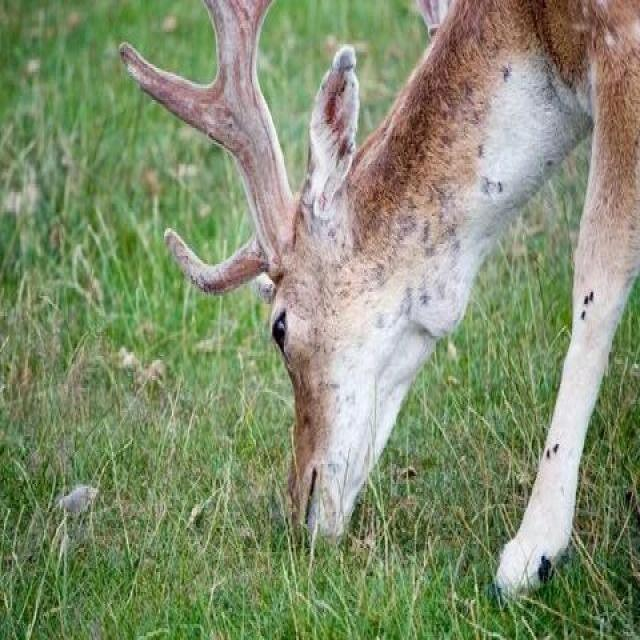deer: (162, 0, 640, 547)
